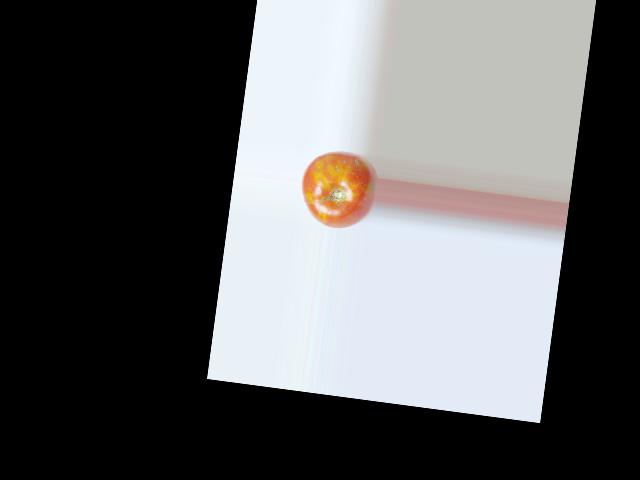tomato: (297, 146, 380, 232)
